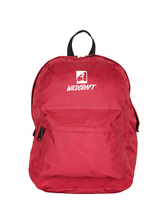bag: (18, 29, 142, 196)
